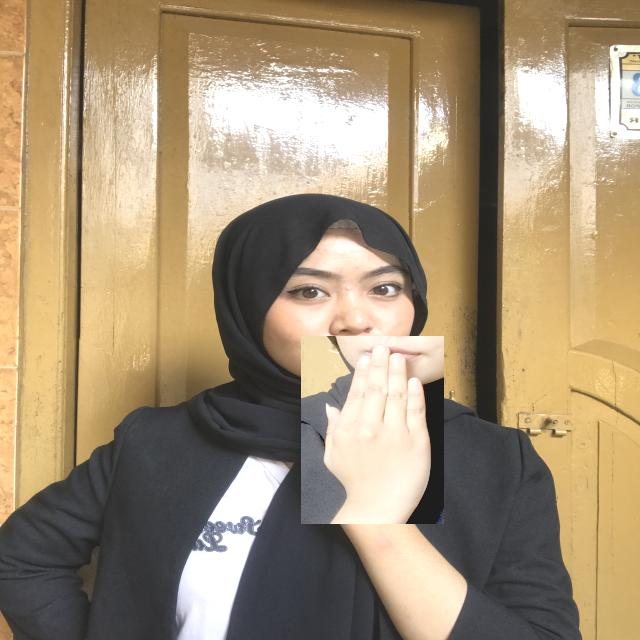ganteng: (301, 336, 444, 524)
